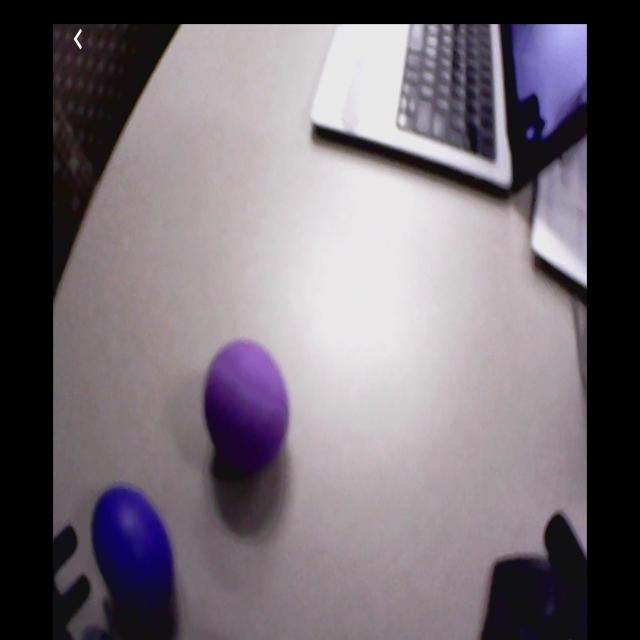ball: (205, 338, 290, 470), (90, 486, 175, 612)
